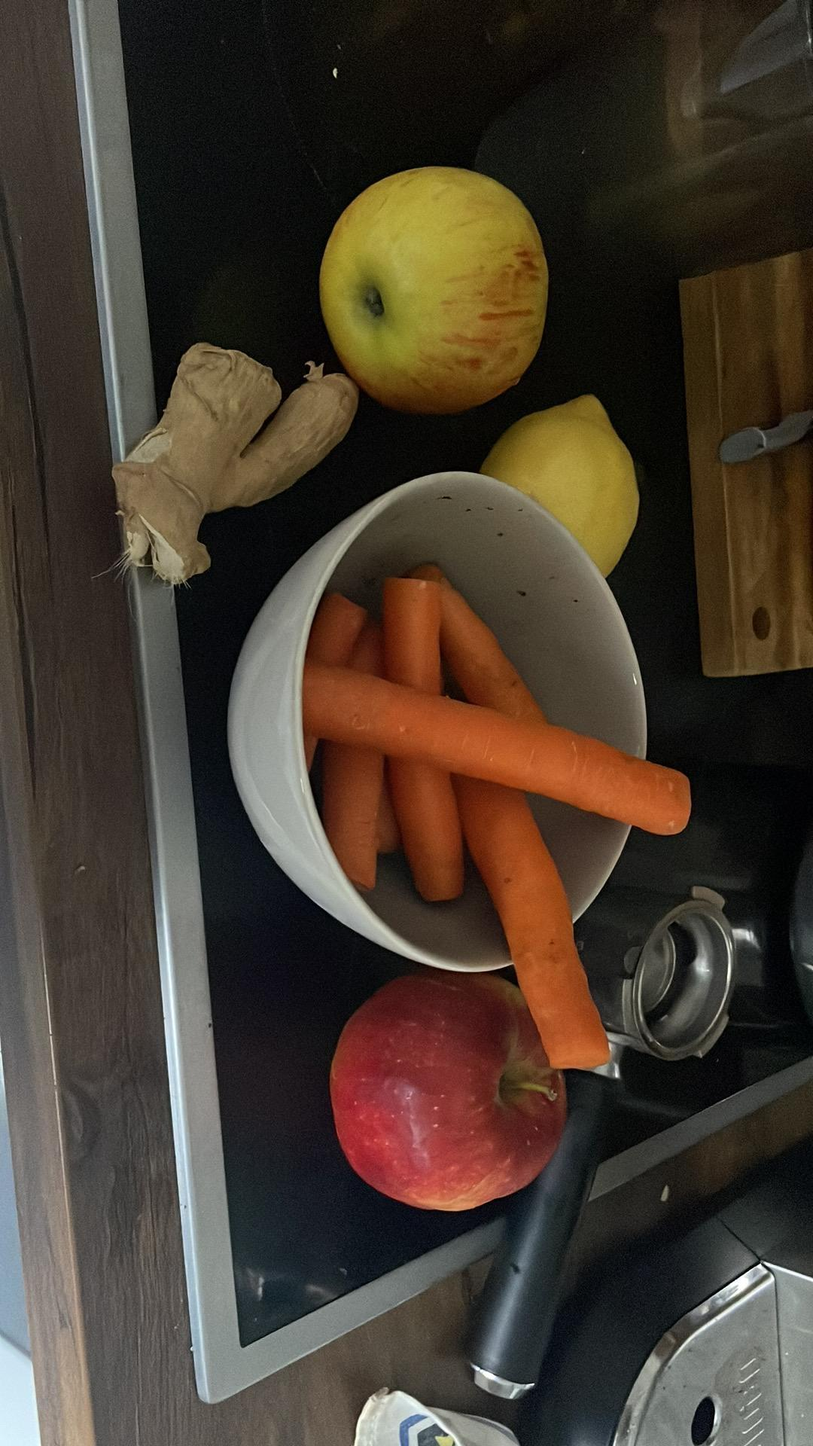apple: (326, 969, 570, 1217), (316, 166, 552, 416)
carrot: (309, 663, 693, 836), (458, 778, 611, 1078), (390, 574, 460, 900), (431, 567, 549, 719), (333, 598, 382, 888), (385, 757, 461, 905)
lemon: (481, 391, 633, 589)
